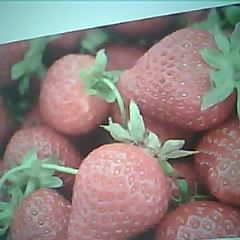straw-ripe: (119, 28, 237, 130), (69, 144, 169, 240)
